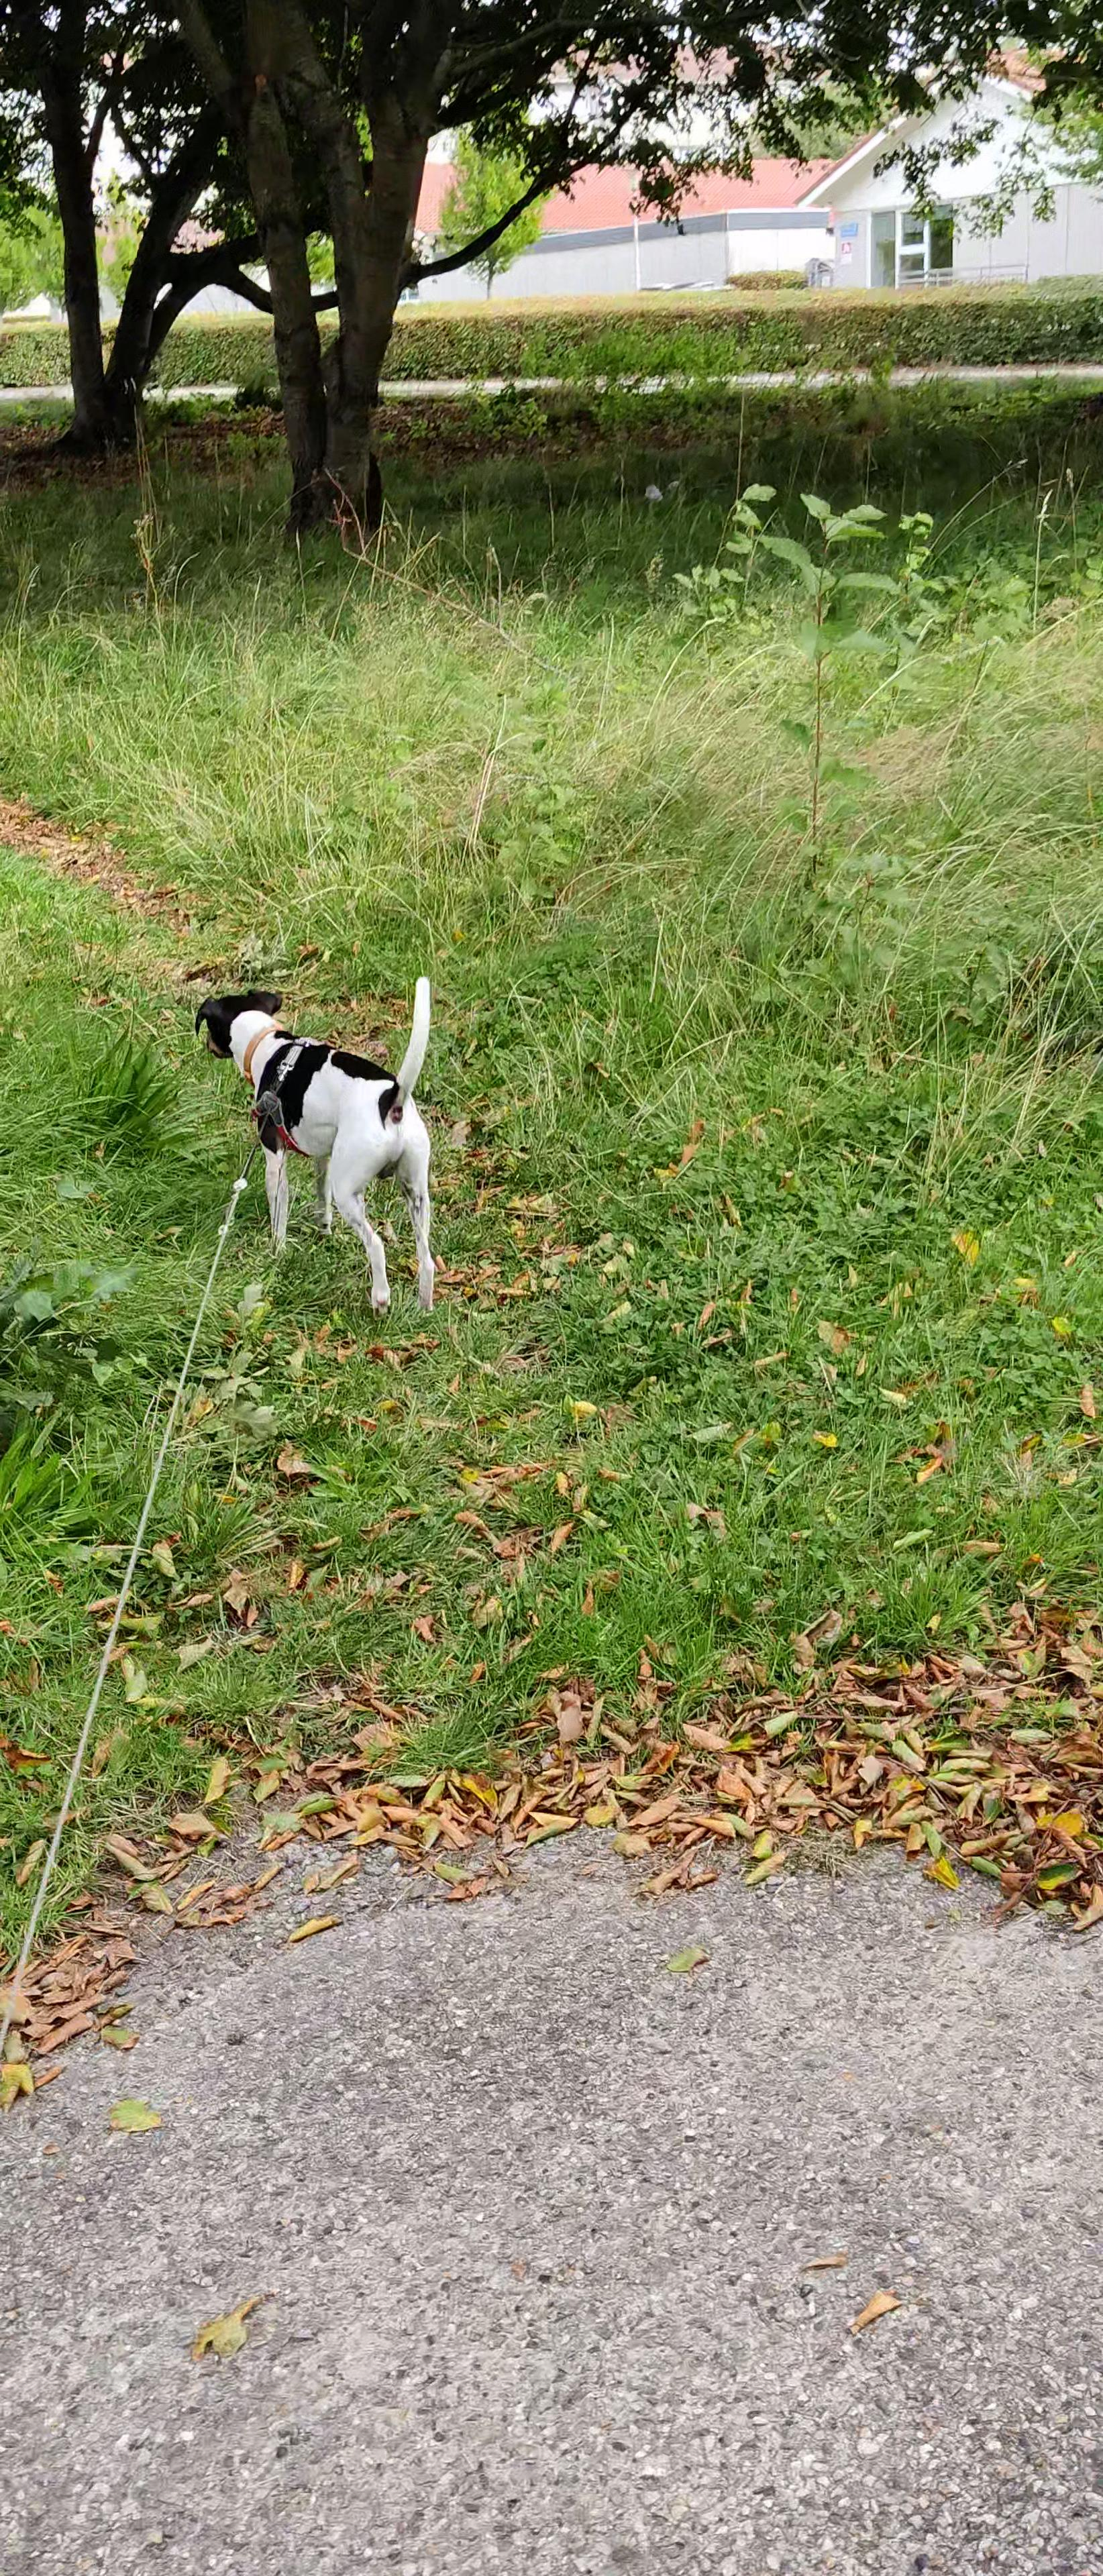Dog: (179, 950, 462, 1326)
